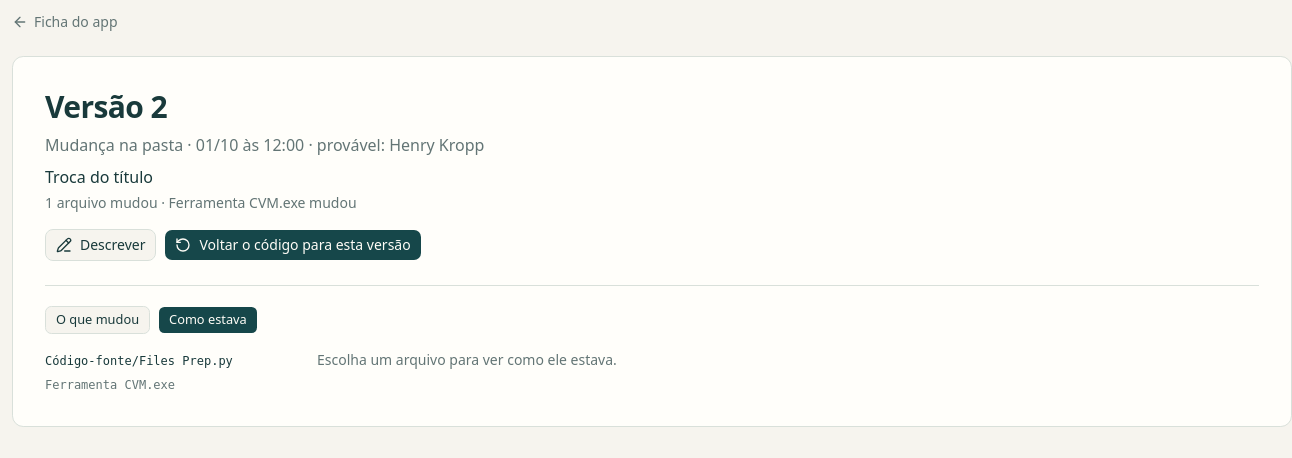
Test: Como estava lists files and opens one
This screenshot has width=1292, height=458.
Click the button "Código-fonte/Files Prep.py" at (173, 361), box [45,353,301,369]
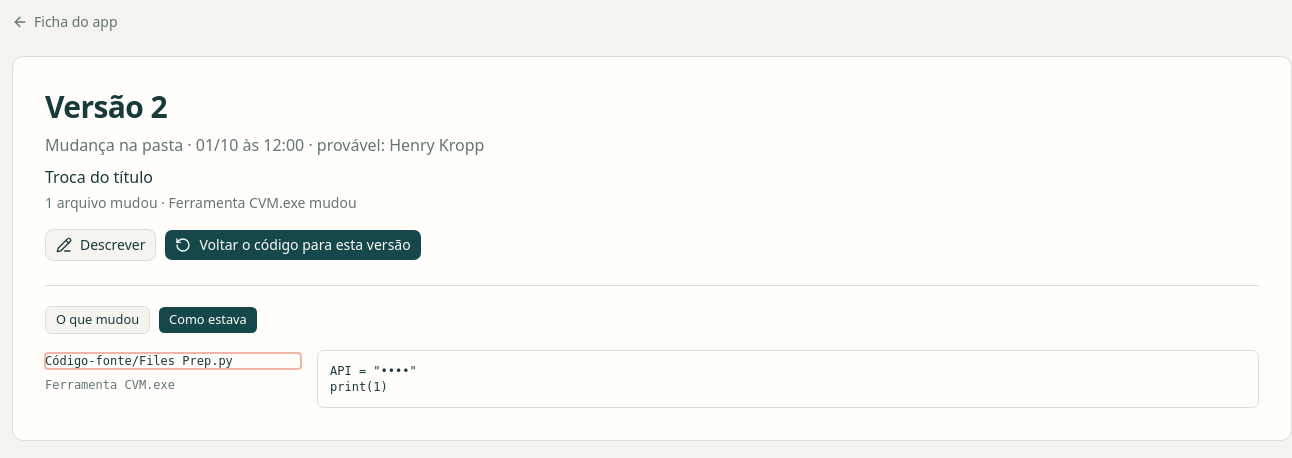
Expected: the button "Ferramenta CVM.exe" is disabled, [45,377,301,393]
Expected: the text "API = \"••••\" print(1)" is shown, [317,350,1259,408]
